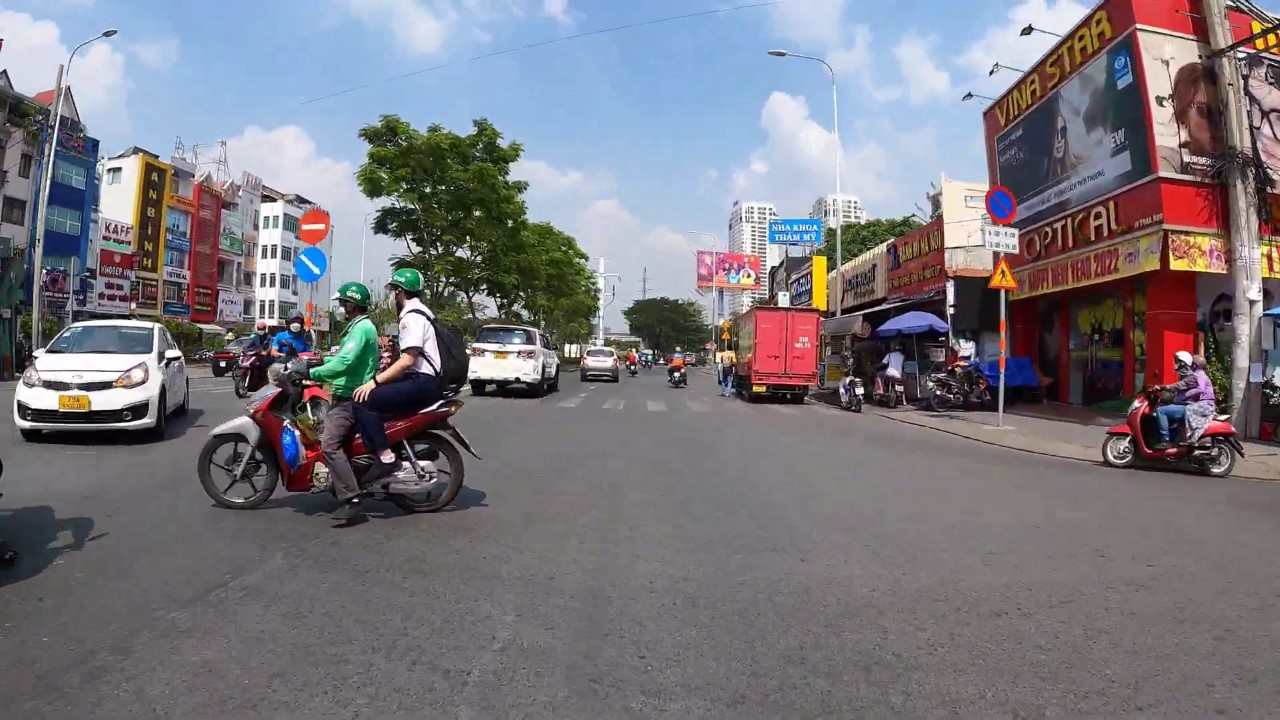cam_do_xe: (984, 185, 1018, 224)
cam_nguoc_chieu: (298, 209, 331, 245)
can_than_nguoi_qua_duong: (987, 257, 1020, 291)
huong_phai_di_vong: (294, 247, 328, 283)
